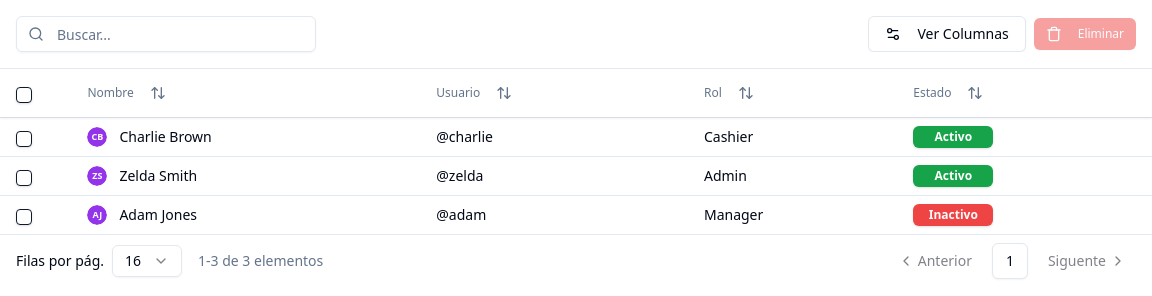
UsersListPage Integration (Delete) › should enable delete button when selecting a user (other than current)
Check: the text "Charlie Brown" is shown, box [119,127,212,147]
Step 1. Click the 2nd checkbox named "Seleccionar fila" → [24, 178], box [16,170,32,186]
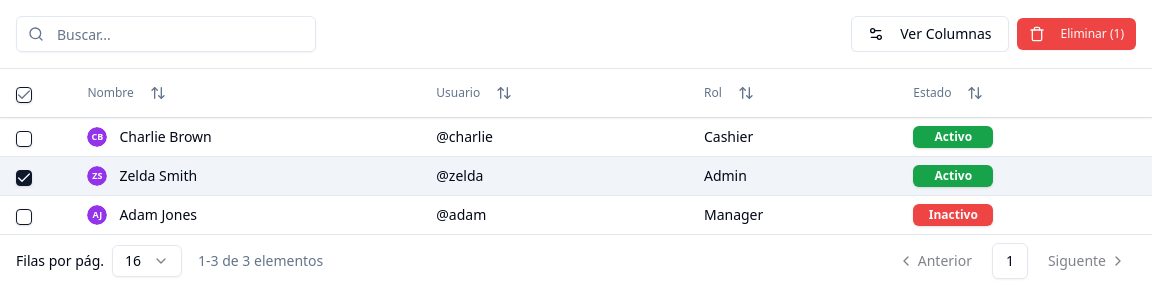
Check: the button "Eliminar (1)" is enabled, box [1016,18,1136,50]
